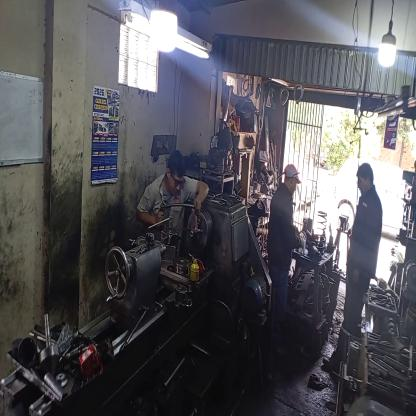lentes: (166, 166, 184, 190)
